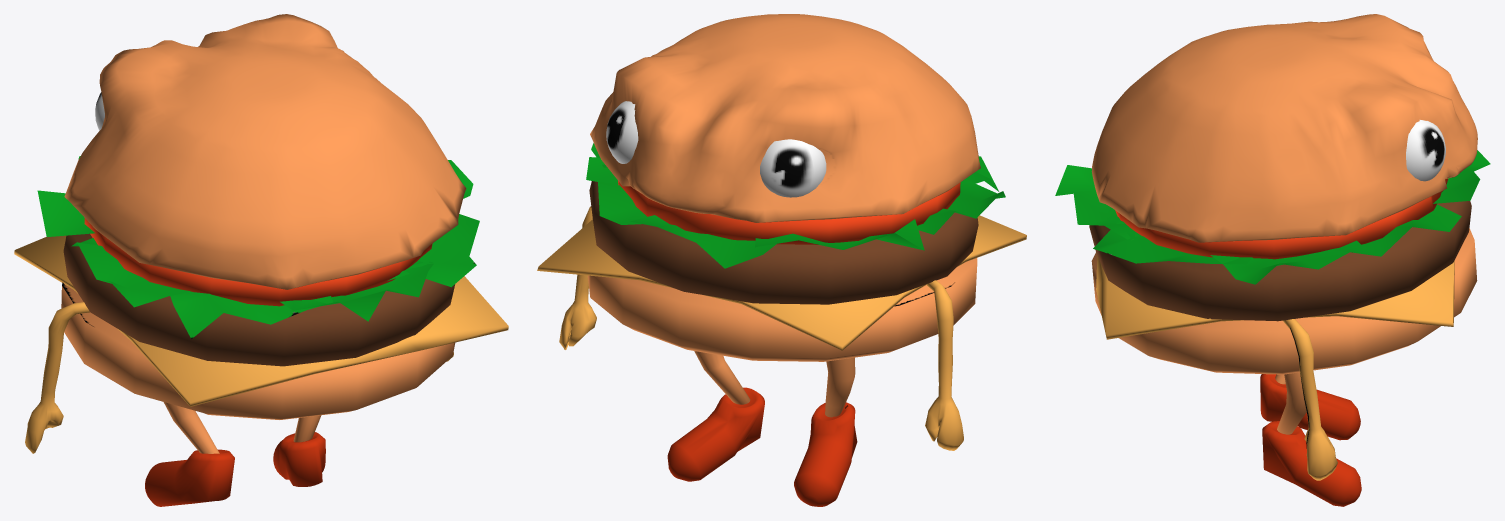
File: plushroyale_static.fbx
The picture shows the model from 3 angles, left to right: view 1: azimuth 30°, elevation 25°; view 2: azimuth 150°, elevation 25°; view 3: azimuth 270°, elevation 25°; orthographic projection. The views are drawn at different scales.
Parts seen in each view (by area): view 1: Royale; view 2: Royale; view 3: Royale.
Boxes of the visible parts, x1,y1,x2,y2 form: Royale: (14,14,508,506); Royale: (537,14,1026,506); Royale: (1055,14,1490,506).
Size of the model in its own units: 0.3603 by 0.368 by 0.343.
